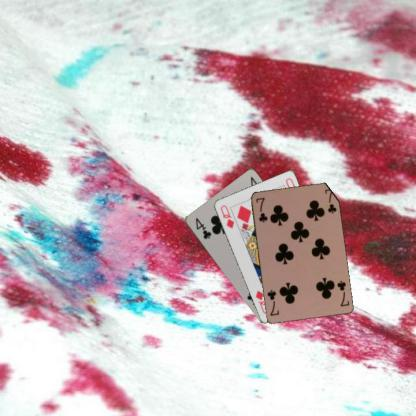4c: (192, 215, 212, 240)
7c: (253, 194, 269, 224), (334, 278, 350, 307)
Qd: (218, 203, 235, 230)
